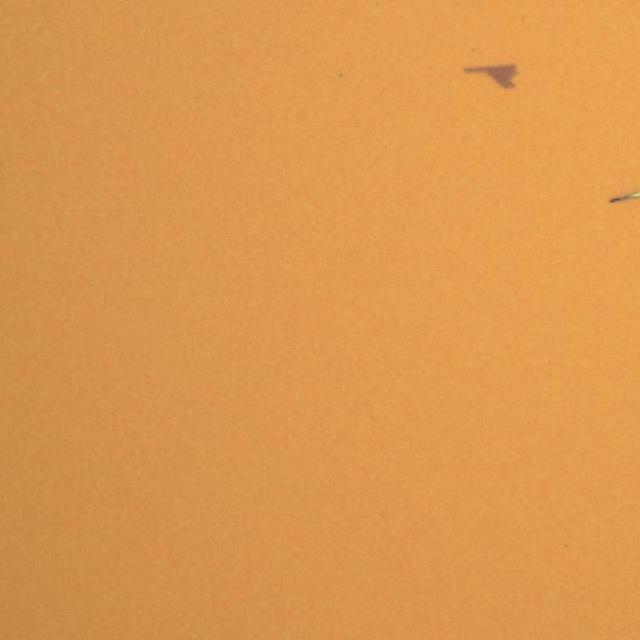monolayer-eWW4: (462, 63, 518, 90)
